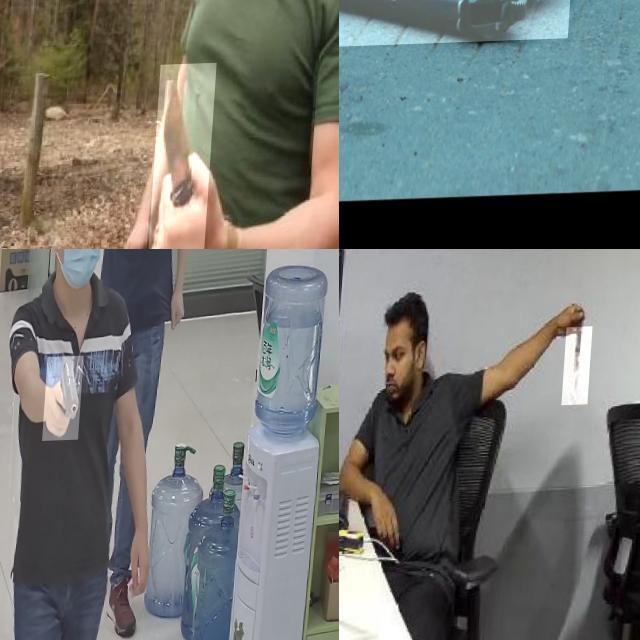-: (151, 65, 218, 249), (567, 328, 597, 408)
gun-knife-thesis - v11 Yolov5 augmented: (339, 0, 580, 72), (46, 358, 88, 443)
